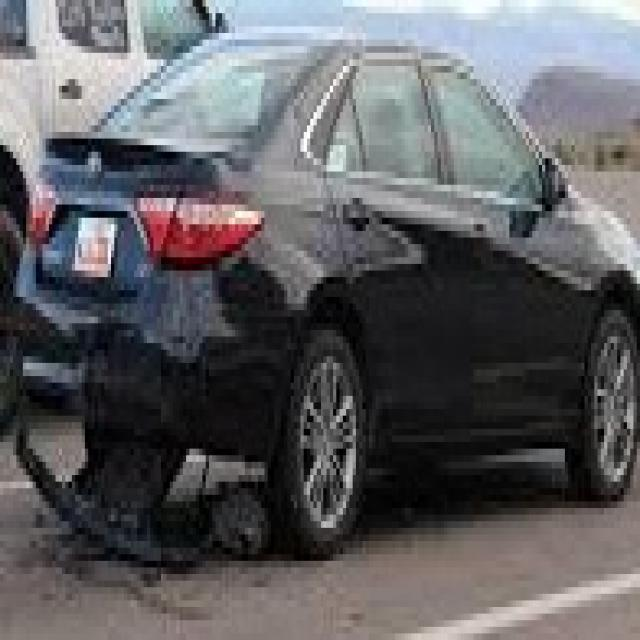moderate: (16, 305, 307, 526)
